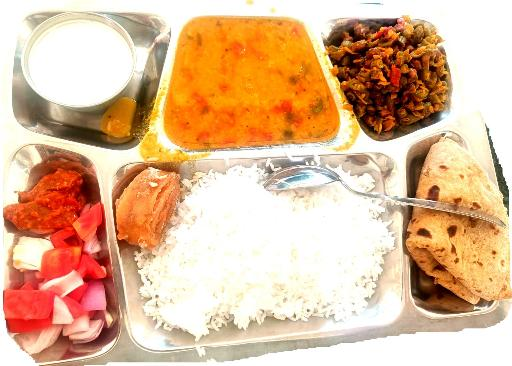Curd: (21, 2, 142, 111)
Dal: (158, 12, 331, 147)
Pickle: (10, 163, 81, 224)
Rice: (124, 165, 388, 332)
Roti: (416, 133, 512, 305)
Salad: (10, 238, 98, 344)
Sweet: (110, 164, 179, 247)
Vegetable: (338, 16, 457, 129)
